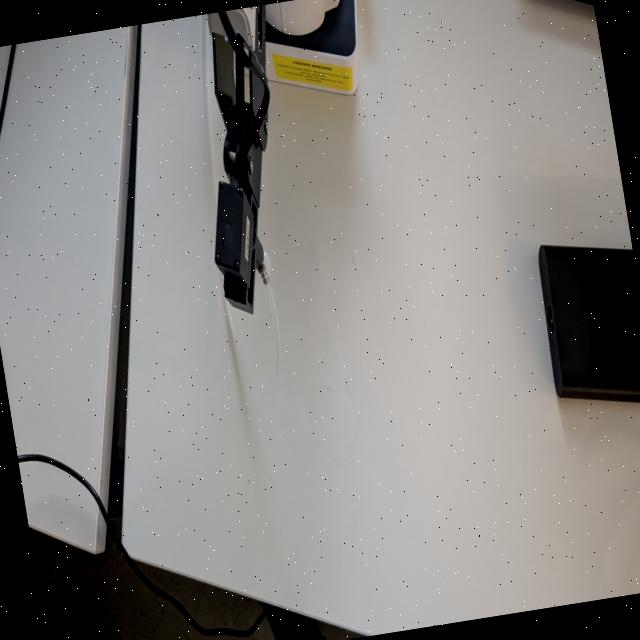Robot-end-effector-HF8z: (198, 172, 284, 328)
